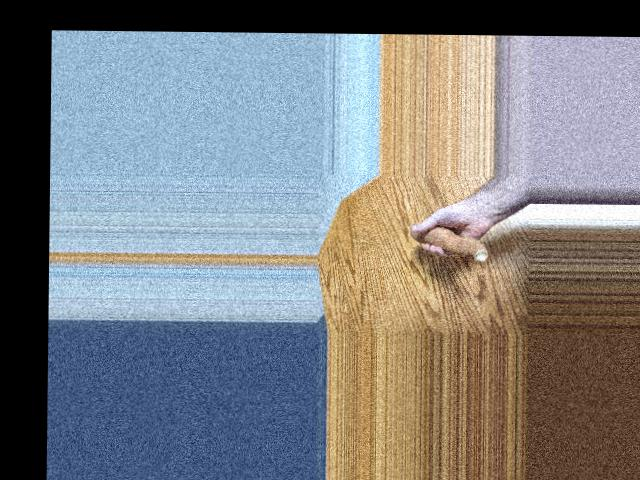sweet_potato: (406, 225, 493, 260)
